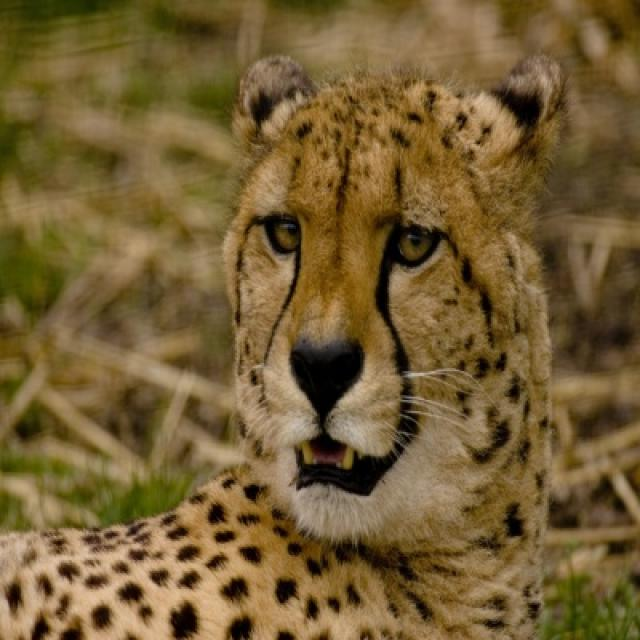Cheetah: (0, 54, 568, 638)
